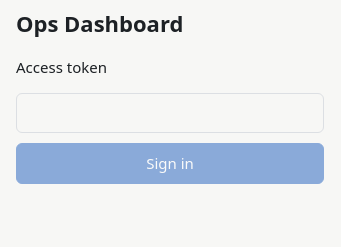
Test: asks for a token and shows when it is refused
In the password field labelled "Access token": (170, 113) [16,92,324,133], type "wrong"
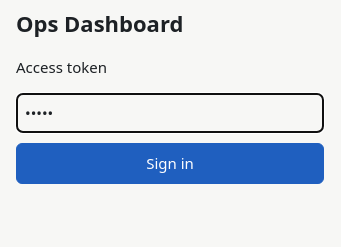
Click the button "Sign in": (170, 163) [16,143,324,184]
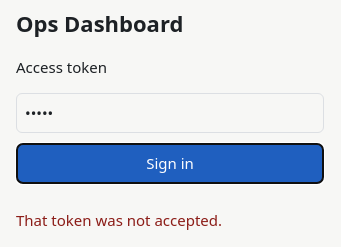
Expected: the message reads "That token was not accepted.", [16,210,222,230]
